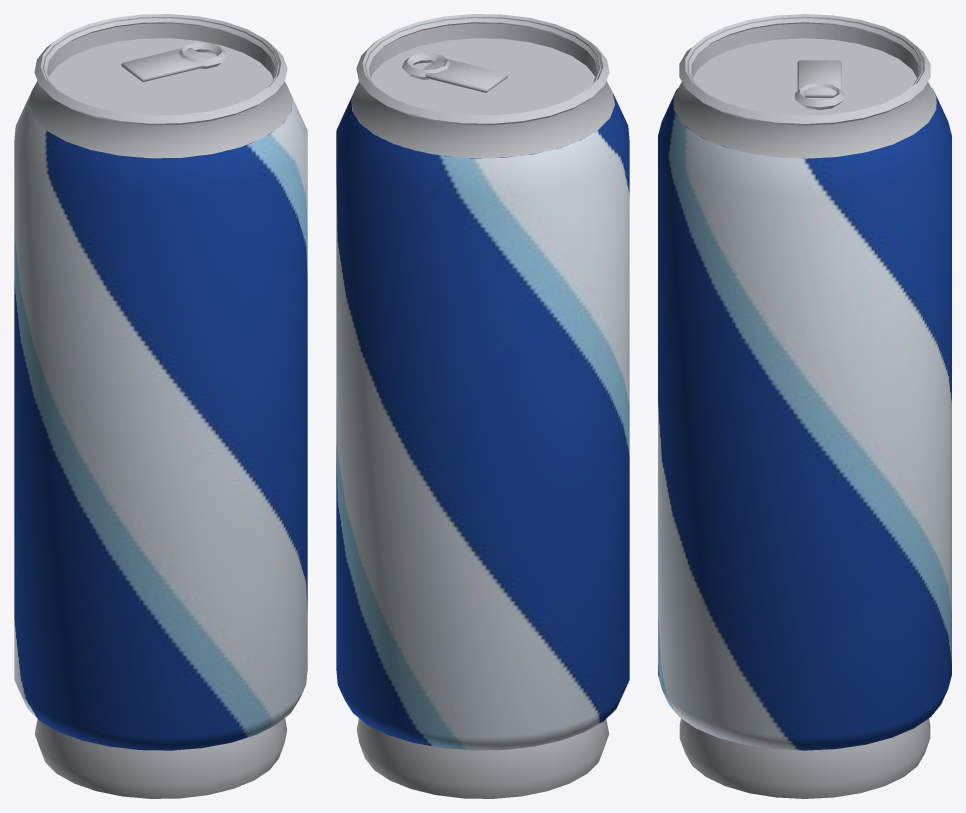
The model's file is can_blue_cooler_tall.glb.
3 renders of one model, left to right at view 1: azimuth 30°, elevation 25°; view 2: azimuth 150°, elevation 25°; view 3: azimuth 270°, elevation 25°, orthographic.
Parts seen in each view (by area): view 1: can_blue_cooler_tall; view 2: can_blue_cooler_tall; view 3: can_blue_cooler_tall.
Boxes of the visible parts, bbox=[...] form: can_blue_cooler_tall: bbox=[14, 14, 307, 798]; can_blue_cooler_tall: bbox=[336, 14, 629, 798]; can_blue_cooler_tall: bbox=[658, 14, 951, 798].
Bounding box in the file's own units: 0.066 × 0.1694 × 0.066.
4 materials, 1 textured.
